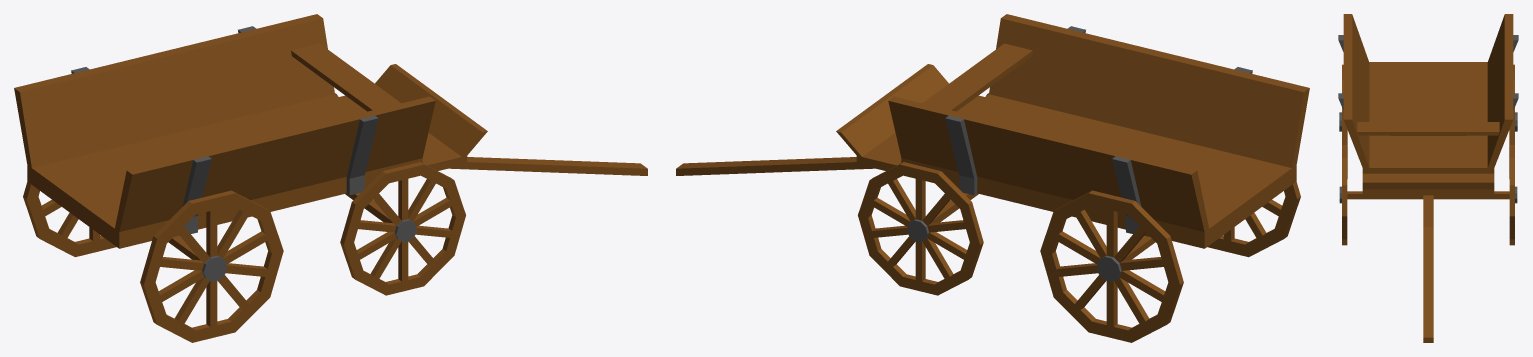
The model's file is Carriage.fbx.
3 views of the same model, side by side, from view 1: azimuth 30°, elevation 25°; view 2: azimuth 150°, elevation 25°; view 3: azimuth 270°, elevation 25° (orthographic). The views are drawn at different scales.
Parts seen in each view (by area): view 1: Carriage; view 2: Carriage; view 3: Carriage.
Boxes of the visible parts, x1,y1,x2,y2 form: Carriage: (14,14,647,342); Carriage: (676,14,1309,342); Carriage: (1338,14,1518,342).
Size of the model in its own units: 15.84 by 4.81 by 6.05.
